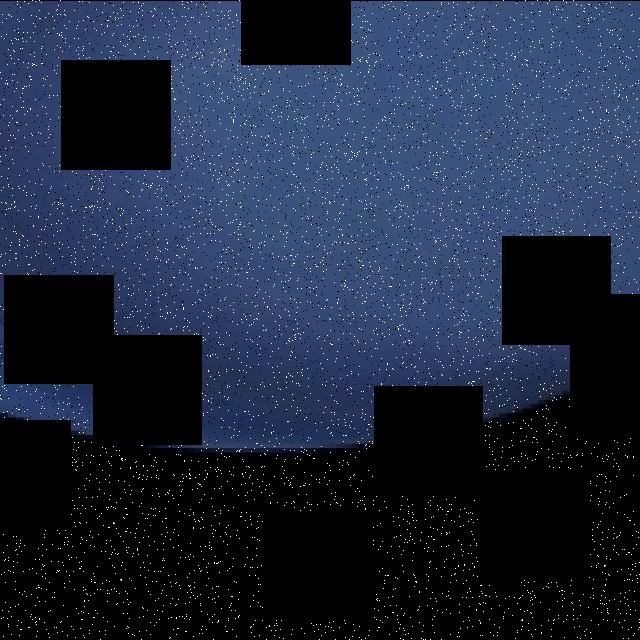Neptune: (0, 0, 640, 452)
